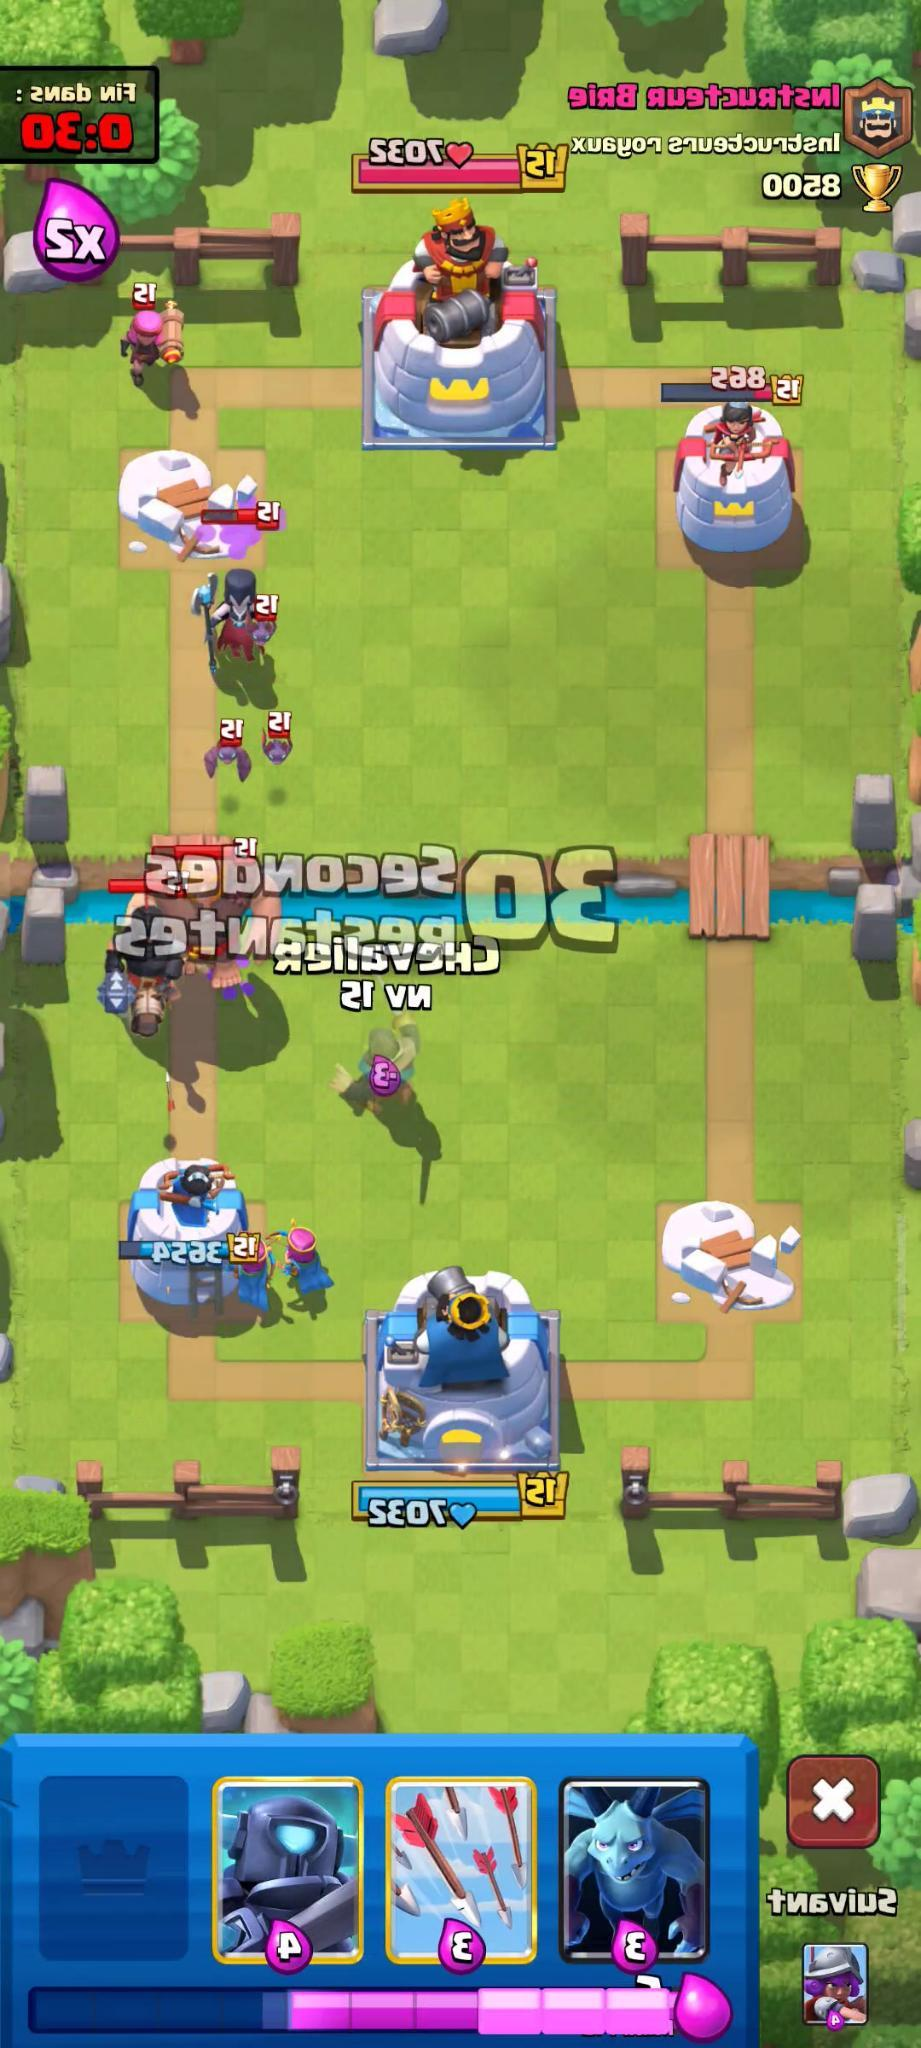enemy_bats: (197, 705, 258, 798), (260, 706, 297, 777), (250, 598, 282, 643)
enemy_dark_prince: (89, 938, 175, 1039)
enemy_firecracker: (115, 281, 193, 382)
enemy_night_witch: (181, 508, 263, 665)
player_archers: (275, 1217, 339, 1312)
